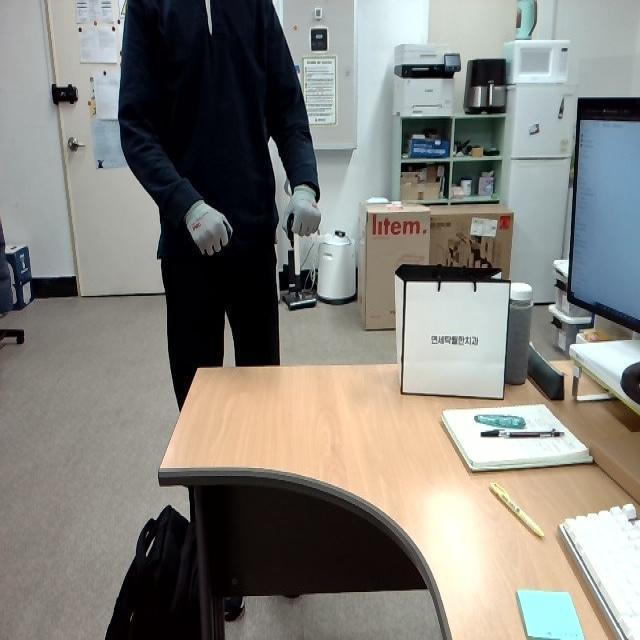gloved_hand: (178, 195, 233, 259), (275, 179, 326, 241)
